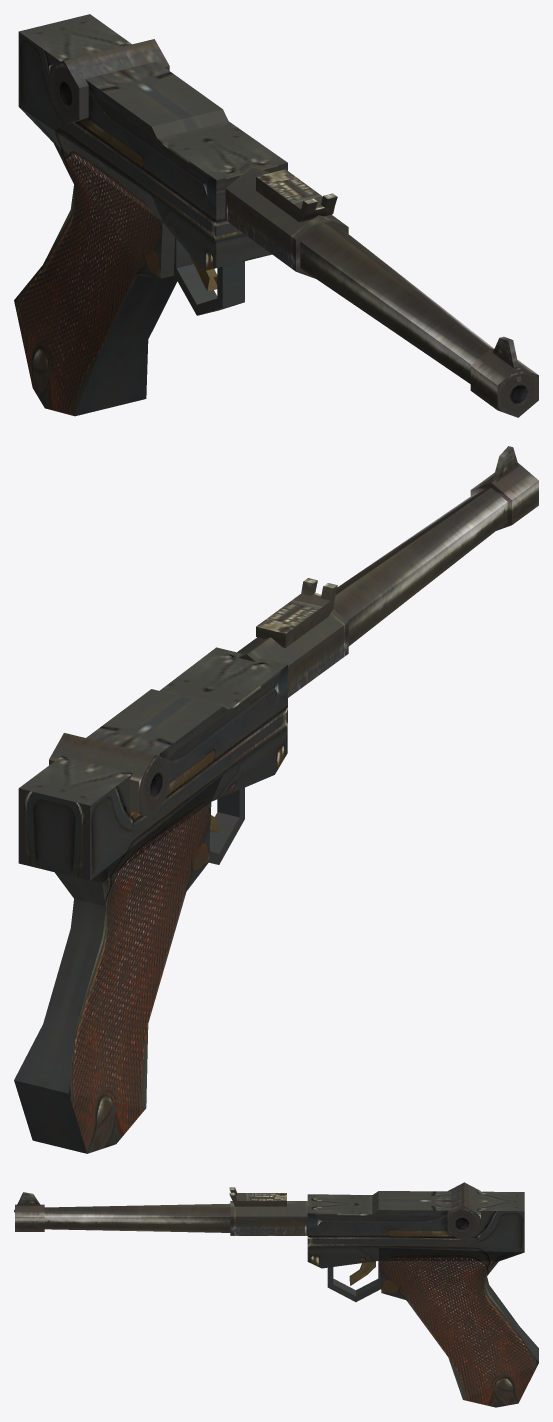
Rendered from Lugar.glb.
The picture shows the model from 3 angles, top to bottom: view 1: azimuth 30°, elevation 25°; view 2: azimuth 150°, elevation 25°; view 3: azimuth 270°, elevation 25°; orthographic projection. The views are drawn at different scales.
Visible parts, largest first — view 1: Lugar; view 2: Lugar; view 3: Lugar, Trigger.
Boxes of the visible parts, x1,y1,x2,y2 form: Lugar: [14, 14, 538, 417]; Lugar: [14, 446, 538, 1153]; Lugar: [14, 1182, 538, 1407]; Trigger: [349, 1261, 375, 1285].
Size of the model in its own units: 0.2083 by 0.828 by 1.91.
Materials: 1 (1 with a texture image).
